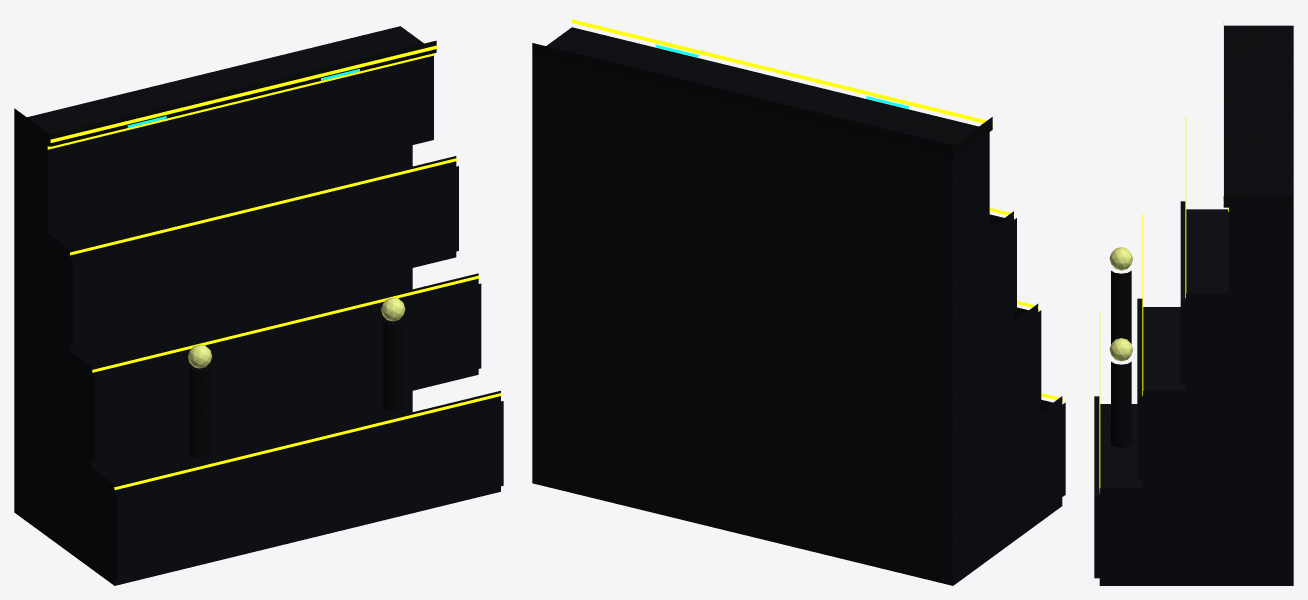
3 renders of one model, left to right at view 1: azimuth 30°, elevation 25°; view 2: azimuth 150°, elevation 25°; view 3: azimuth 270°, elevation 25°, orthographic. The views are drawn at different scales.
Parts seen in each view (by area): view 1: Skirt_Courses, Skirt_Core, Coping, Court_Line_Nosings, Ball_Bollards, Coping_Court_Line, Bollard_Balls; view 2: Skirt_Core, Skirt_Courses, Coping, Coping_Court_Line; view 3: Skirt_Courses, Coping, Skirt_Core, Ball_Bollards, Court_Line_Nosings, Bollard_Balls.
Part boxes in pixels (box(x1,y1,x2,y2)): Skirt_Courses: box(26, 55, 503, 585); Skirt_Core: box(14, 35, 412, 520); Coping: box(14, 26, 436, 146); Court_Line_Nosings: box(47, 53, 501, 489); Ball_Bollards: box(189, 320, 404, 458); Coping_Court_Line: box(50, 45, 436, 142); Bollard_Balls: box(188, 297, 405, 368); Skirt_Core: box(532, 55, 966, 585); Skirt_Courses: box(966, 132, 1065, 575); Coping: box(532, 27, 992, 158); Coping_Court_Line: box(571, 19, 992, 124); Skirt_Courses: box(1094, 201, 1270, 585); Coping: box(1223, 25, 1293, 207); Skirt_Core: box(1270, 207, 1293, 585); Ball_Bollards: box(1111, 270, 1131, 447); Court_Line_Nosings: box(1099, 116, 1228, 493); Bollard_Balls: box(1109, 247, 1132, 361).
Size of what is drawn, in the model's own units: 4 by 4 by 1.85.
Materials: 5 (2 with a texture image).
